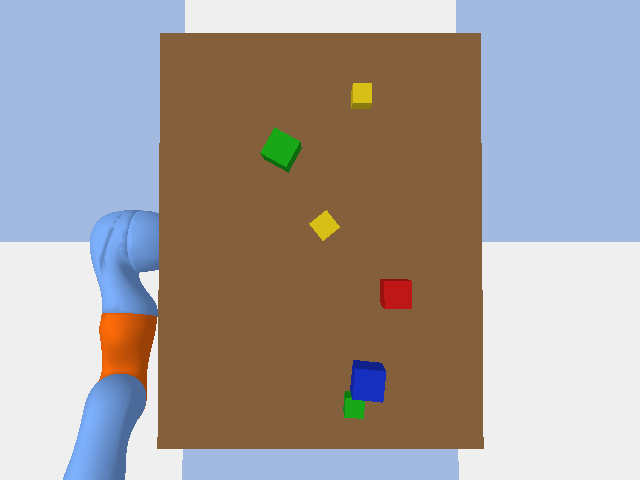blue_obj: (350, 360, 385, 402)
green_obj: (260, 127, 301, 172), (343, 391, 364, 418)
red_obj: (380, 279, 411, 308)
yellow_obj: (309, 210, 339, 240), (351, 83, 371, 108)
